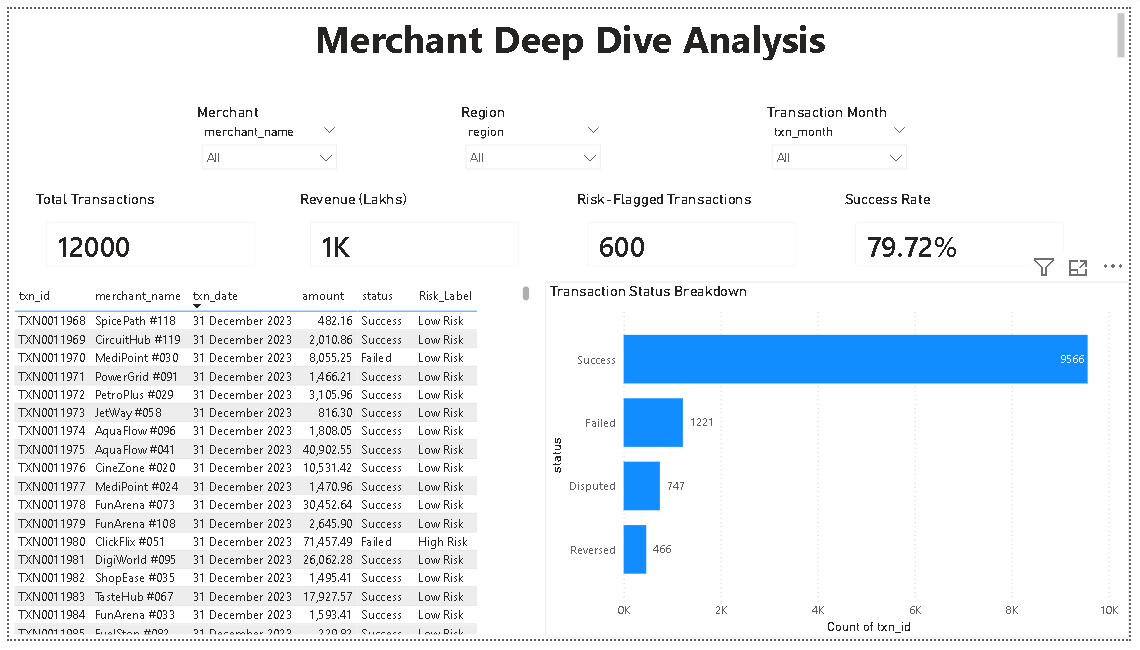

This screenshot's page, from the dashboard's own definition file:
{"tool":"powerbi","page":{"name":"Page 3","canvas":[1280,720],"ordinal":2},"visuals":[{"type":"textbox","box":[10,0,1270,63.3],"z":0},{"type":"slicer","title":"Merchant","fields":{"Values":["Fact_Transactions.merchant_name"]},"box":[210,106.7,175,85],"z":1000},{"type":"slicer","title":"Region","fields":{"Values":["Fact_Transactions.region"]},"box":[511.7,106.7,175,85],"z":2000},{"type":"slicer","title":"Transaction Month","fields":{"Values":["Fact_Transactions.txn_month"]},"box":[861.7,106.7,175,85],"z":3000},{"type":"cardVisual","title":"Total Transactions","fields":{"Data":["Fact_Transactions.Total_Txns_Display"]},"box":[25,206.7,273.3,105],"z":4000},{"type":"cardVisual","title":"Revenue (Lakhs)","fields":{"Data":["Fact_Transactions.Revenue_Lakhs"]},"box":[326.7,206.7,273.3,105],"z":5000},{"type":"cardVisual","title":"Risk-Flagged Transactions","fields":{"Data":["Fact_Transactions.Risk_Flagged_Txns"]},"box":[645,206.7,273.3,105],"z":6000},{"type":"cardVisual","title":"Success Rate","fields":{"Data":["Fact_Transactions.Success_Rate_%"]},"box":[950,206.7,273.3,105],"z":7000},{"type":"tableEx","fields":{"Values":["Fact_Transactions.txn_id","Fact_Transactions.merchant_name","Fact_Transactions.txn_date","Fact_Transactions.amount","Fact_Transactions.status","Fact_Transactions.Risk_Label"]},"box":[0,311.7,600,408.3],"z":8000},{"type":"clusteredBarChart","title":"Transaction Status Breakdown","fields":{"Category":["Fact_Transactions.status"],"Y":["CountNonNull(Fact_Transactions.txn_id)"]},"box":[613.3,311.7,666.7,408.3],"z":9000}]}

Visuals, with their boxes in screenshot pixels (x1, y1, x2, y2), scaled from the page's 1280x720 canvas onto the 1140x650 screenshot:
textbox: (9, 0, 1139, 57)
"Merchant" slicer: (187, 96, 343, 173)
"Region" slicer: (456, 96, 612, 173)
"Transaction Month" slicer: (767, 96, 923, 173)
"Total Transactions" cardVisual: (22, 187, 266, 281)
"Revenue (Lakhs)" cardVisual: (291, 187, 534, 281)
"Risk-Flagged Transactions" cardVisual: (574, 187, 818, 281)
"Success Rate" cardVisual: (846, 187, 1090, 281)
tableEx - Fact_Transactions.txn_id x Fact_Transactions.merchant_name: (0, 281, 534, 649)
"Transaction Status Breakdown" clusteredBarChart: (546, 281, 1139, 649)
